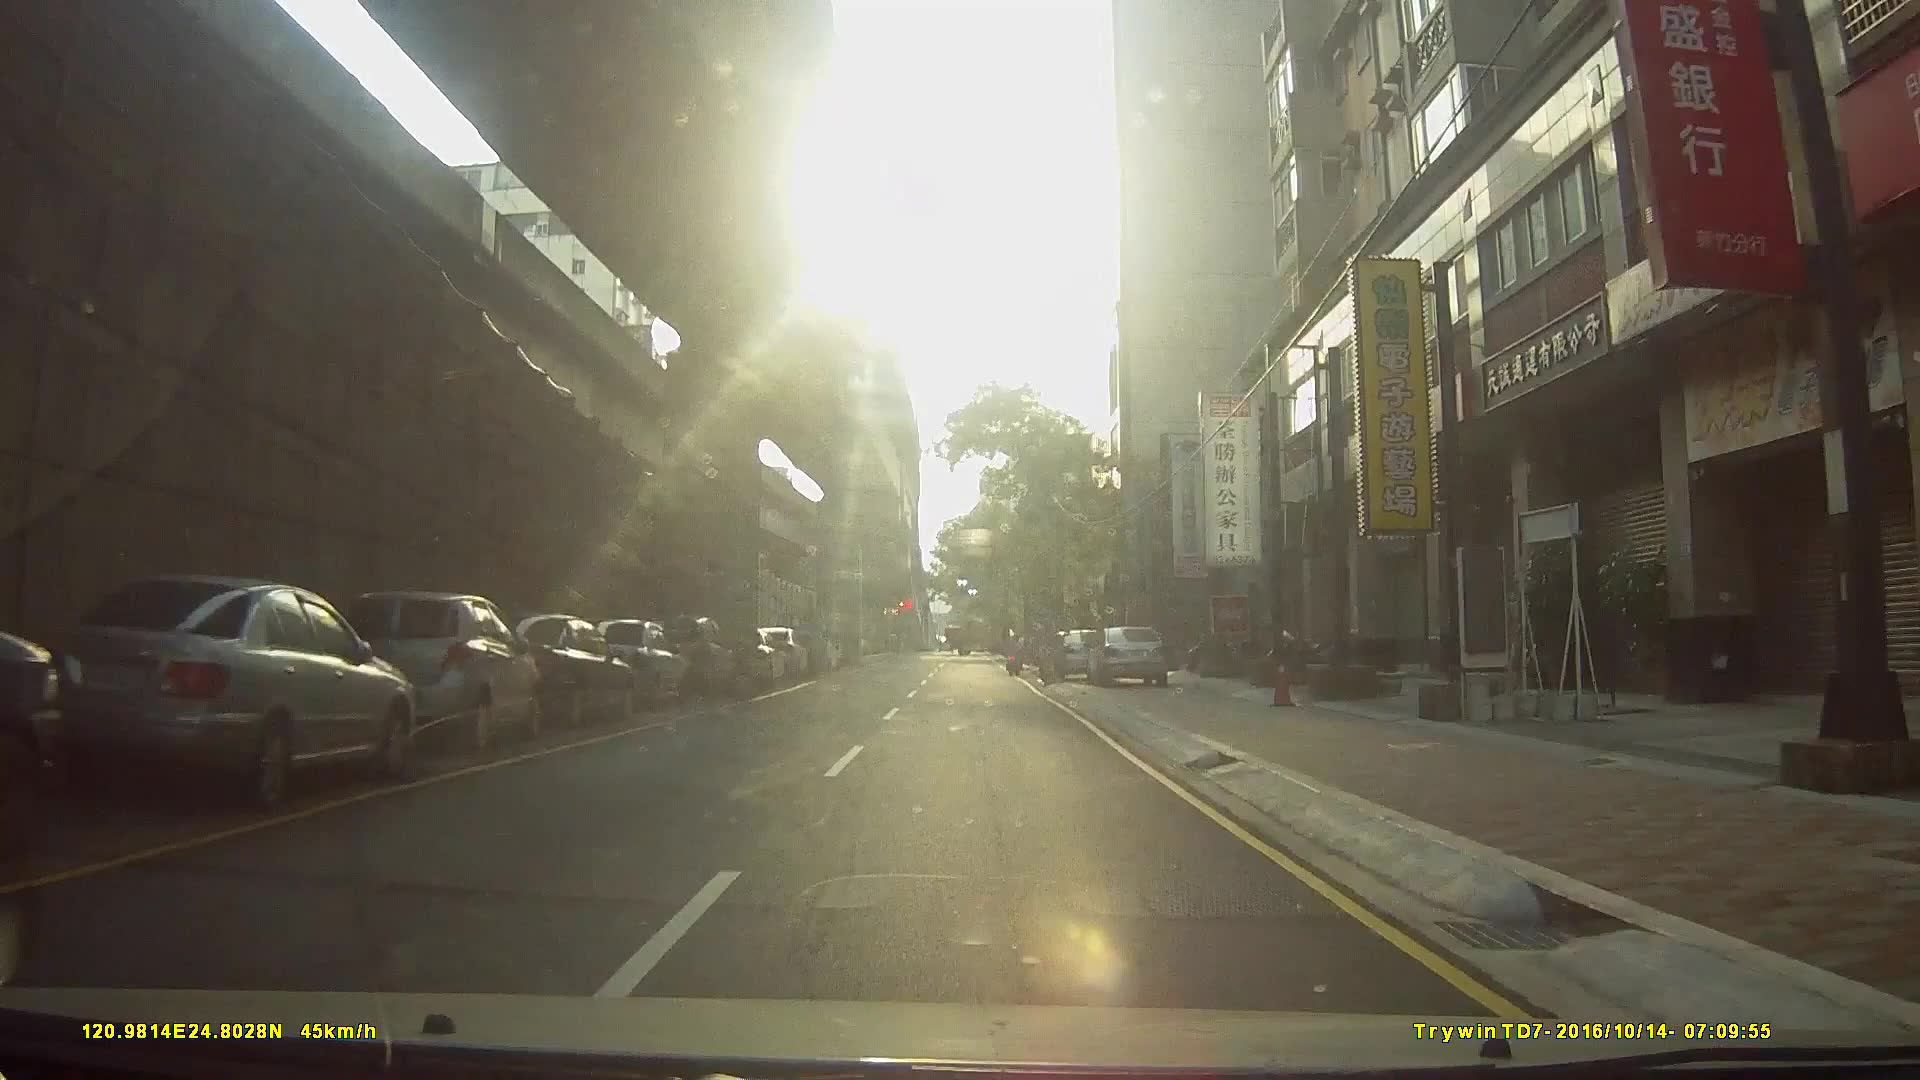vehicle: (11, 571, 400, 819), (309, 588, 535, 752), (1, 605, 100, 852), (483, 611, 632, 733), (582, 617, 690, 709), (644, 615, 736, 705), (1081, 625, 1172, 686), (1036, 626, 1108, 683), (771, 607, 828, 676), (942, 616, 1021, 653)
